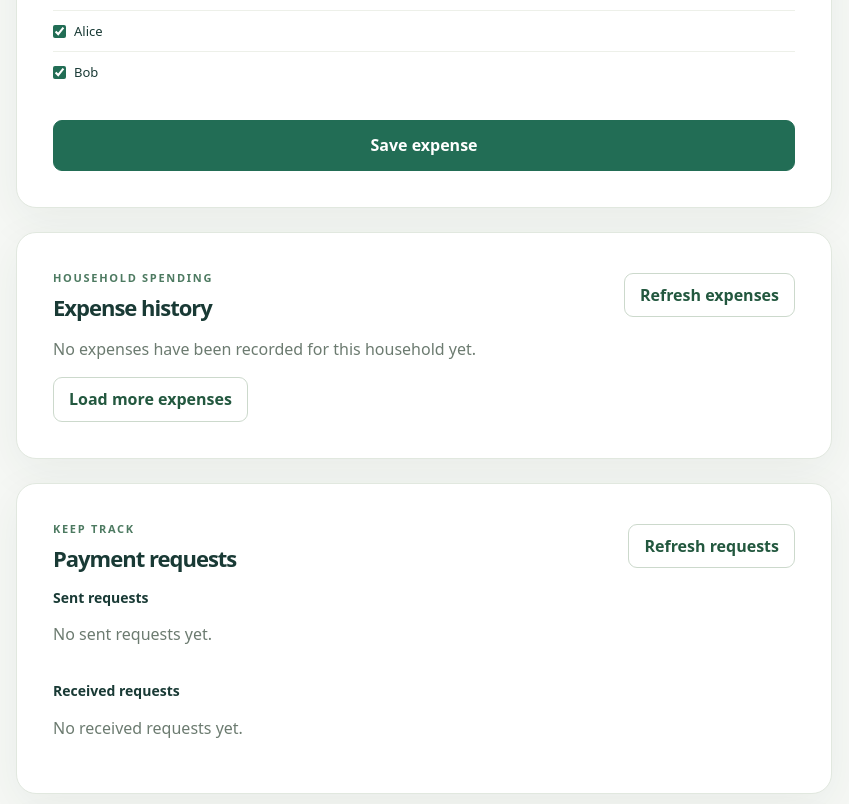
expense history and details › shows an empty state and loads the next page with the cursor
(page scrolled)
Expected: the text "No expenses have been recorded for this household yet." is shown, [53,338,476,360]
Click the button "Load more expenses" at x=150, y=400, box [53,377,248,422]
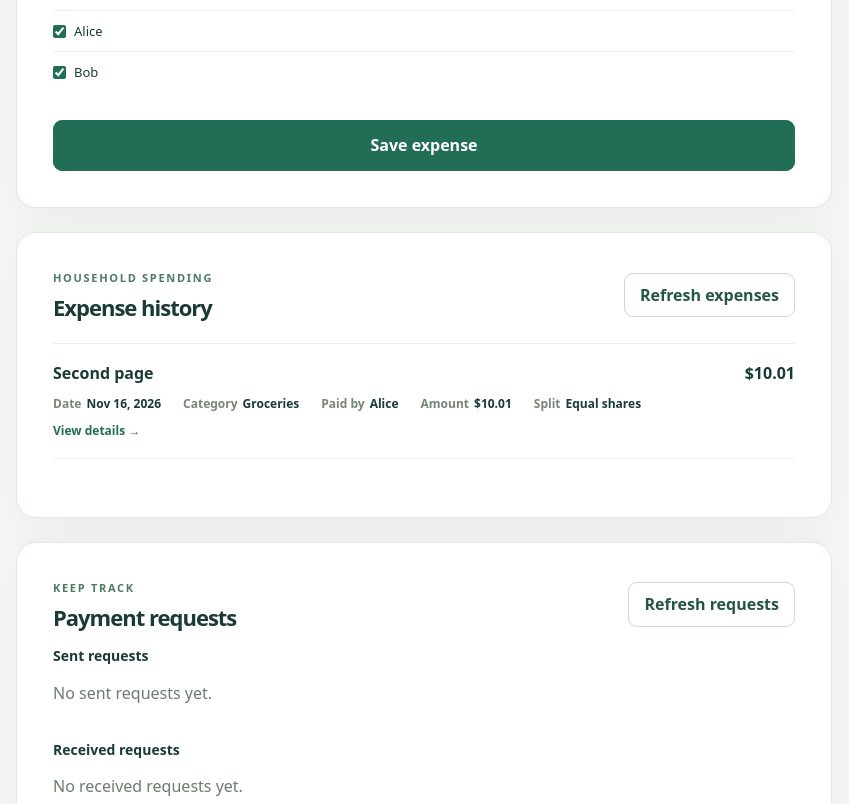
Expected: the button with aria-label "View Second page" is shown, [53,344,795,458]
